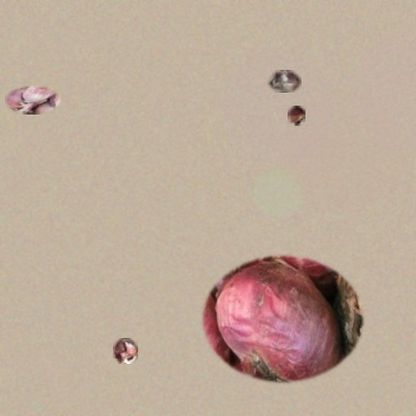healthy: (198, 252, 368, 386)
rotten: (267, 70, 301, 93), (113, 338, 138, 364)
sprouted: (5, 85, 61, 115), (288, 106, 306, 126)
